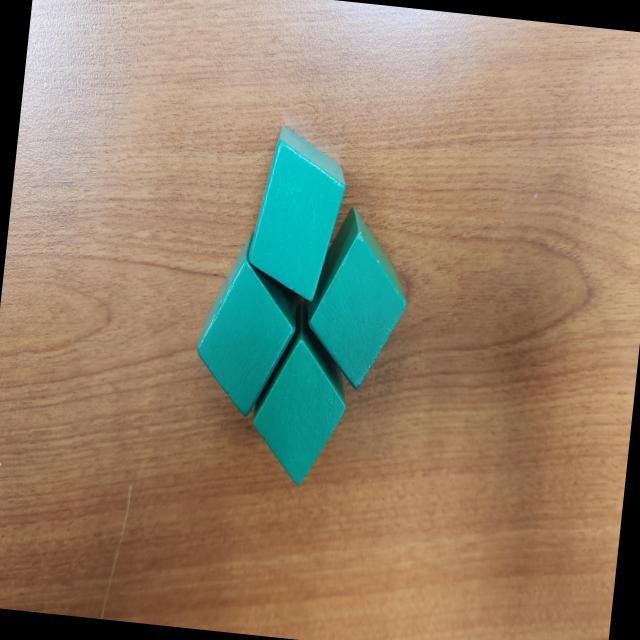green: (190, 226, 306, 421), (299, 203, 416, 394), (243, 122, 352, 305), (246, 309, 355, 491)
